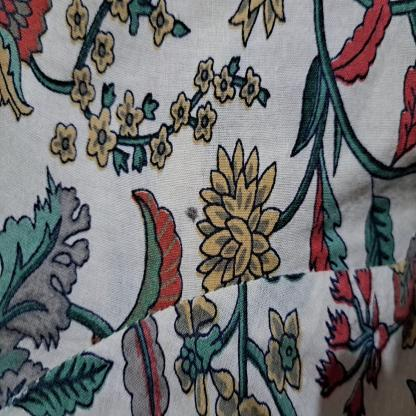spot: (184, 196, 205, 228)
